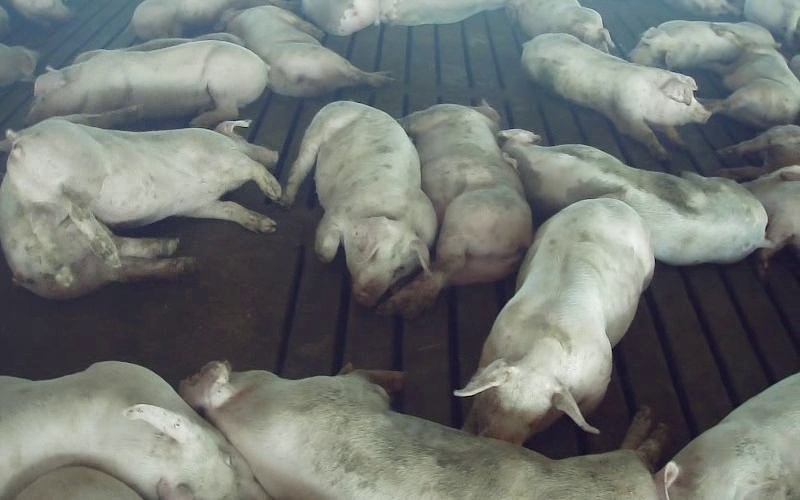pig: (180, 362, 663, 499), (457, 199, 653, 443), (499, 129, 766, 264), (379, 104, 530, 316), (281, 101, 436, 306), (522, 33, 710, 159), (27, 40, 267, 127), (222, 5, 390, 96), (701, 46, 799, 127), (629, 20, 775, 70)
